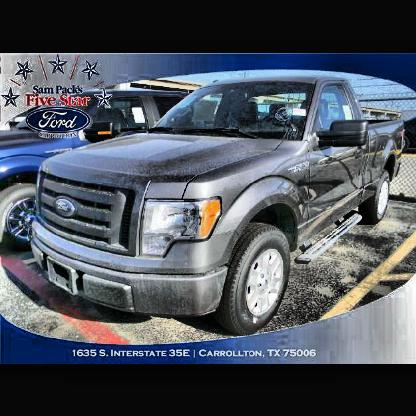Ford F-150 Regular Cab 2012: (34, 77, 409, 337)
